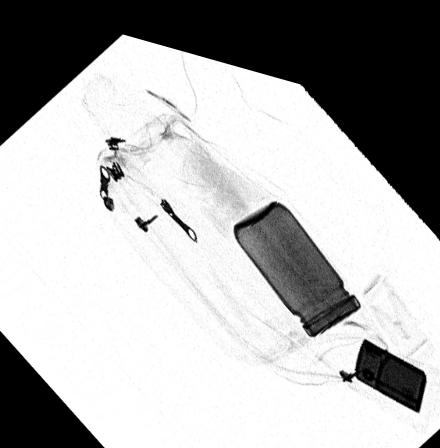Lighter: (352, 316, 428, 389)
